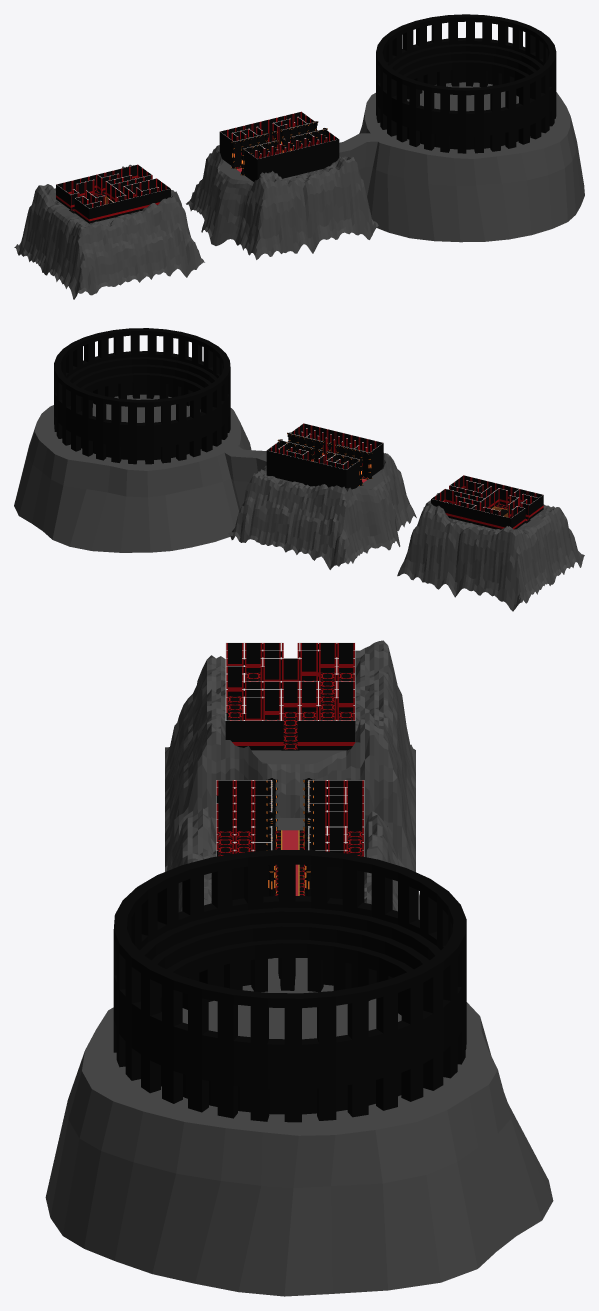
File: niveau_6.1.fbx
3 renders of one model, top to bottom at view 1: azimuth 30°, elevation 25°; view 2: azimuth 150°, elevation 25°; view 3: azimuth 270°, elevation 25°, orthographic. The views are drawn at different scales.
Visible parts, largest first — view 1: arène_caillou, arène, partie 2_caillou, partie 1_caillou, Partie 2, partie 1, colonnes; view 2: arène_caillou, arène, partie 2_caillou, partie 1_caillou, Partie 2, partie 1, colonnes; view 3: arène_caillou, arène, partie 1_caillou, partie 1, Partie 2, partie 2_caillou, colonnes.
Part boxes in pixels (x1=…): arène_caillou: x1=339, y1=82, x2=584, y2=242; arène: x1=376, y1=14, x2=556, y2=153; partie 2_caillou: x1=186, y1=145, x2=378, y2=259; partie 1_caillou: x1=14, y1=164, x2=204, y2=299; Partie 2: x1=219, y1=111, x2=339, y2=181; partie 1: x1=56, y1=164, x2=170, y2=223; colonnes: x1=231, y1=121, x2=327, y2=175; arène_caillou: x1=14, y1=394, x2=266, y2=552; arène: x1=54, y1=328, x2=230, y2=464; partie 2_caillou: x1=228, y1=453, x2=416, y2=569; partie 1_caillou: x1=397, y1=493, x2=584, y2=611; Partie 2: x1=266, y1=423, x2=383, y2=489; partie 1: x1=431, y1=475, x2=543, y2=529; colonnes: x1=277, y1=432, x2=372, y2=485; arène_caillou: x1=45, y1=958, x2=553, y2=1296; arène: x1=113, y1=849, x2=466, y2=1122; partie 1_caillou: x1=165, y1=640, x2=415, y2=871; partie 1: x1=225, y1=642, x2=355, y2=750; Partie 2: x1=216, y1=780, x2=364, y2=902; partie 2_caillou: x1=166, y1=807, x2=419, y2=919; colonnes: x1=266, y1=778, x2=314, y2=896.
Bounding box in the file's own units: 12874 × 3242 × 5483.
